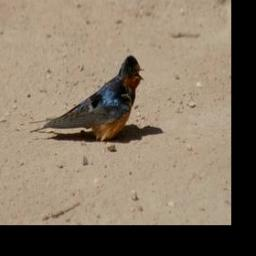Swallow: (30, 54, 144, 139)
